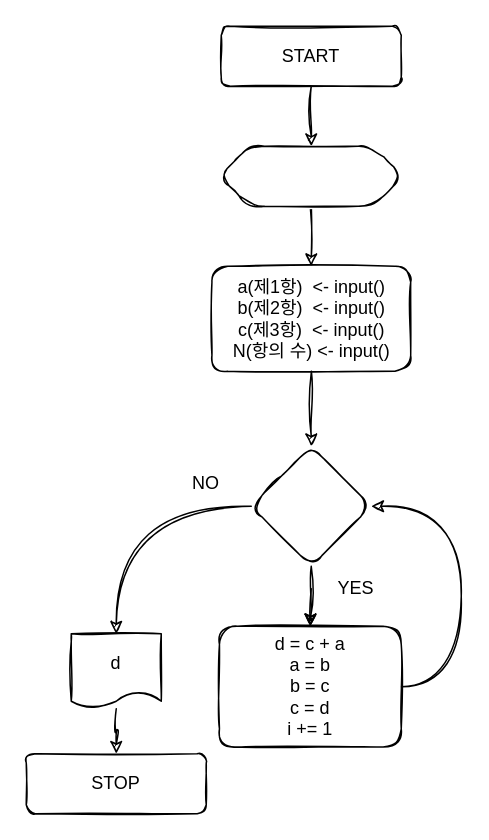
Some shapes in this 489 by 840 pixel diagram are drawn without their labels. Here are the shapes that lost their labels. From the top down, the box of each, then its label:
(218, 145, 403, 206): int a, b, c, d, N, i=1
(250, 445, 371, 566): i<=N-3
